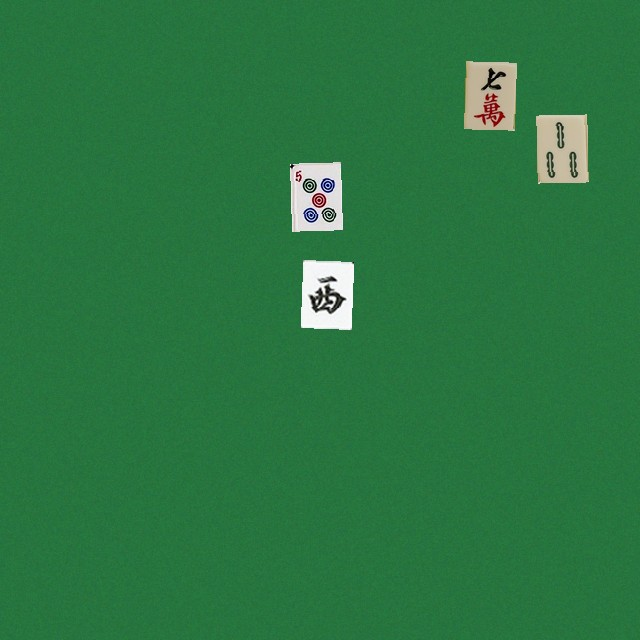tile: (289, 162, 340, 230), (536, 114, 587, 182), (300, 260, 351, 328), (464, 61, 515, 129)
